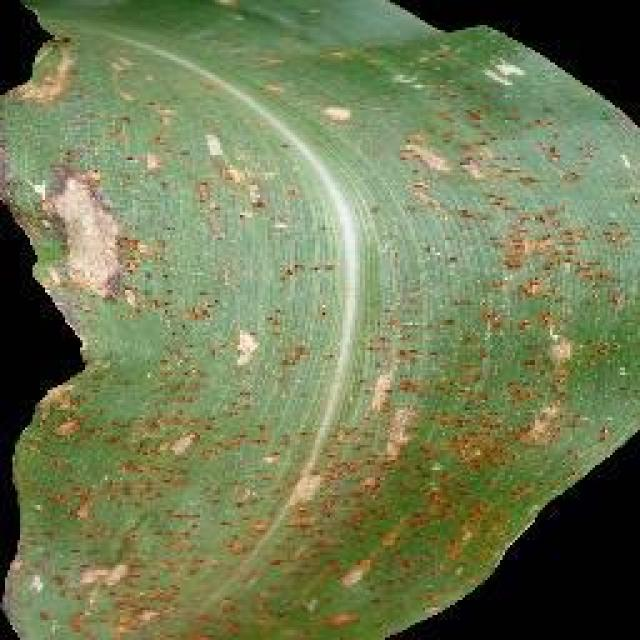Corn Common Rust: (13, 20, 497, 600)
